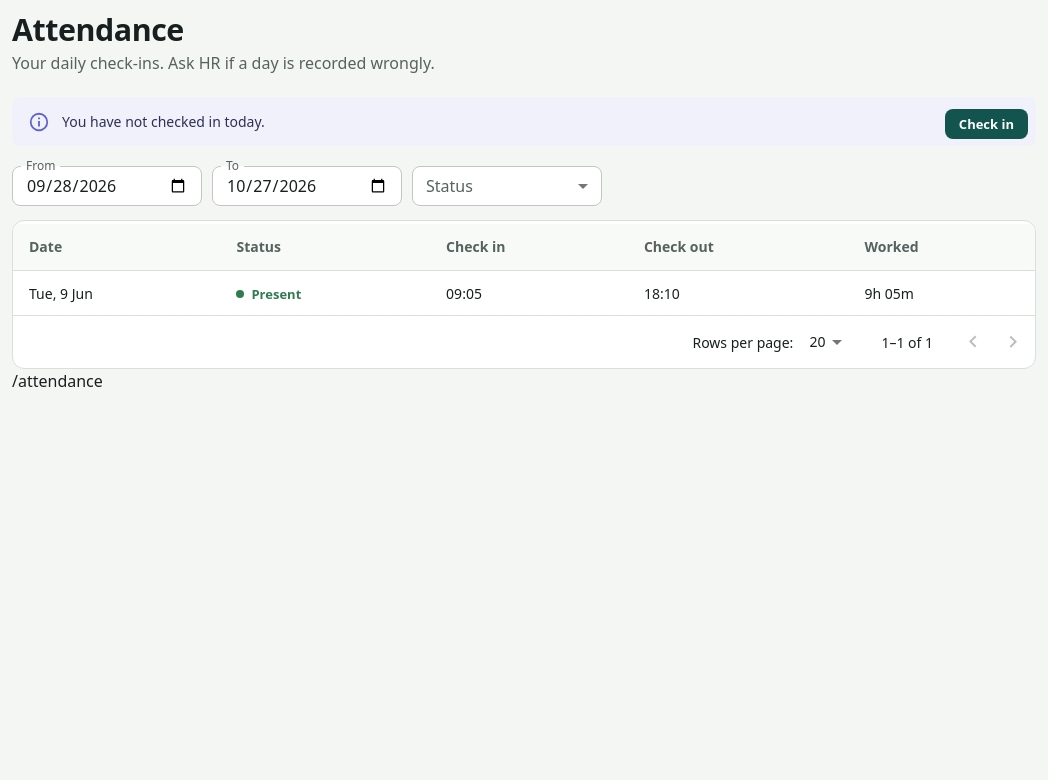
Test case: AttendancePage › checks in from the banner
Click the button "Check in" at (986, 124), box [945,109,1028,139]
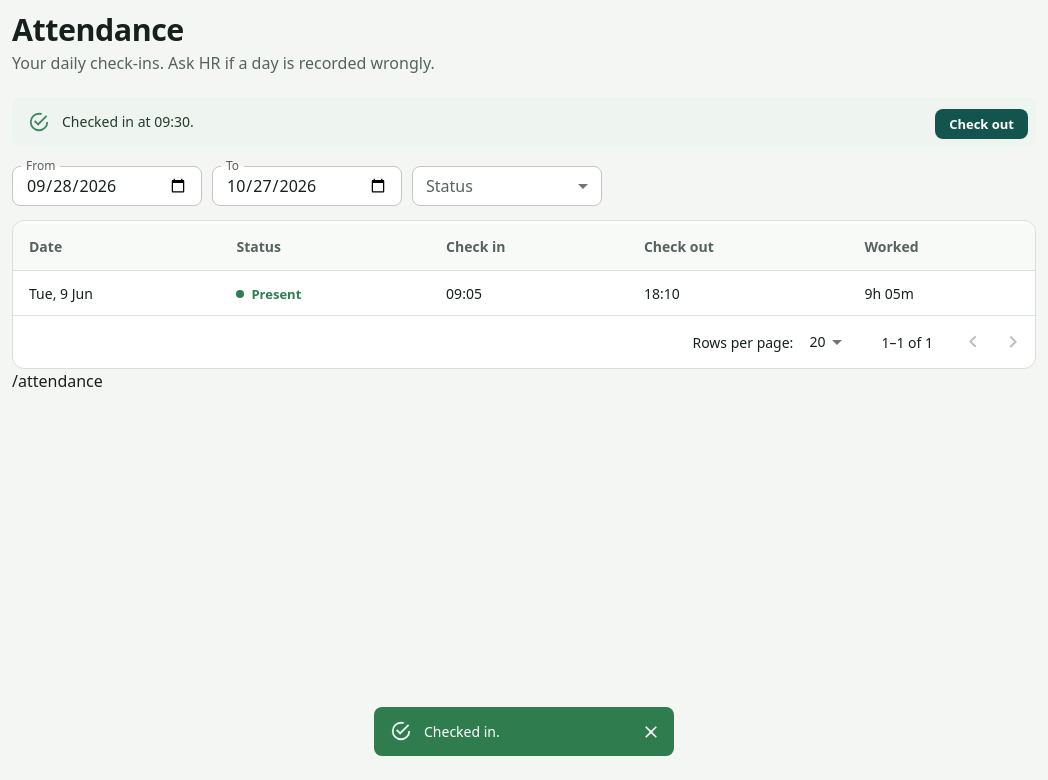
Expected: the text "Checked in at 09:30." is shown, [62,112,194,132]
Expected: the button "Check out" is shown, [935,109,1028,139]
